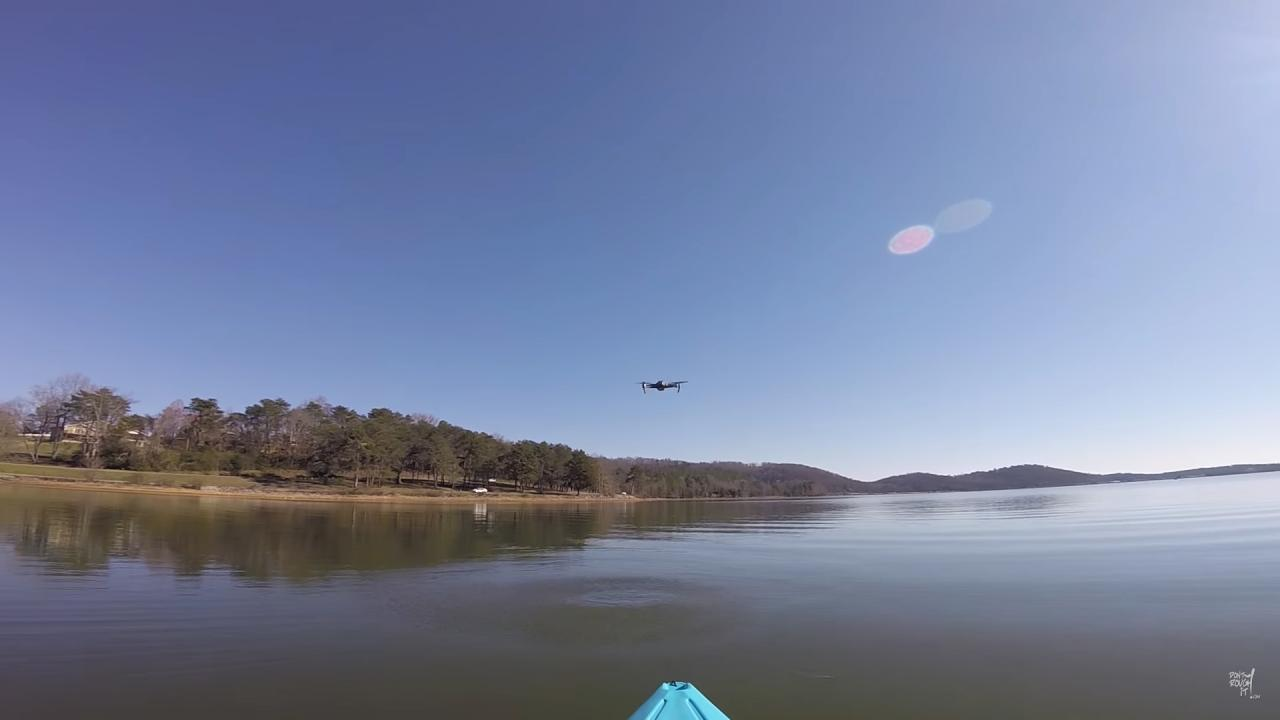Drone: (630, 370, 694, 404)
